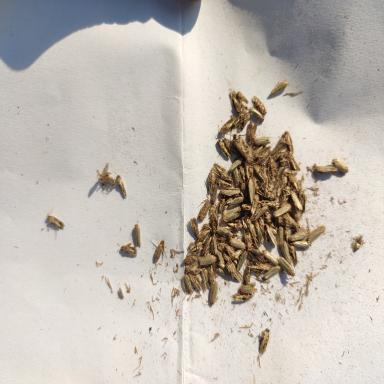pbw: (279, 239, 294, 272), (305, 220, 325, 244), (234, 250, 254, 273), (288, 188, 306, 213), (207, 206, 221, 238), (271, 199, 294, 218), (184, 268, 202, 292), (285, 148, 303, 172), (276, 256, 297, 276), (214, 163, 232, 186), (250, 90, 266, 114), (219, 184, 244, 199), (183, 262, 209, 276), (263, 221, 277, 247), (259, 326, 271, 356), (241, 258, 256, 282), (264, 246, 280, 268), (315, 162, 340, 176), (262, 266, 281, 284), (45, 212, 64, 230), (206, 281, 220, 305), (227, 236, 248, 252), (225, 158, 243, 176), (229, 166, 243, 189), (225, 258, 237, 284), (247, 174, 258, 202), (200, 267, 210, 297), (334, 157, 349, 177), (131, 224, 143, 249), (283, 131, 294, 158), (210, 179, 220, 208), (116, 174, 128, 198), (288, 240, 300, 264), (192, 240, 214, 253), (217, 138, 230, 160), (224, 209, 243, 224), (180, 275, 194, 295), (199, 230, 209, 258), (219, 119, 236, 135), (233, 293, 252, 307), (250, 104, 264, 123), (152, 240, 165, 260), (197, 252, 217, 265), (183, 251, 200, 266), (238, 284, 259, 296), (290, 237, 311, 249), (250, 206, 269, 219), (188, 218, 201, 237), (214, 228, 236, 239), (121, 242, 136, 258), (253, 217, 262, 243), (253, 134, 269, 148), (225, 198, 247, 208)
